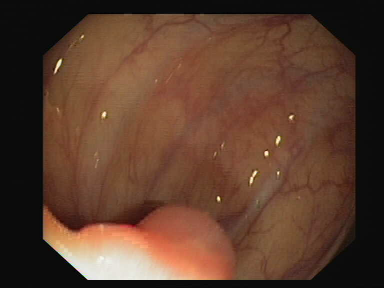polyp: (94, 186, 263, 281)
